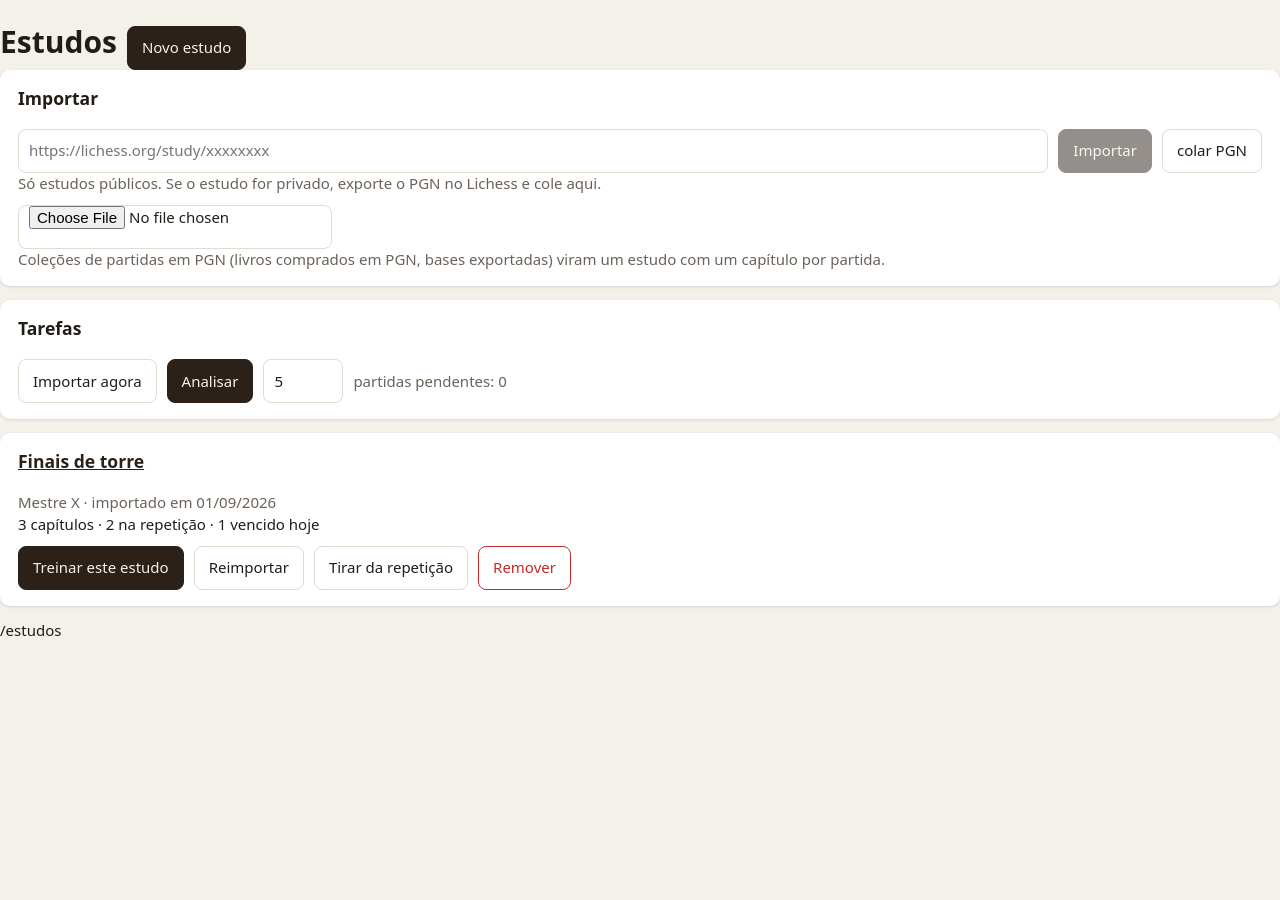
Test: novo estudo cria e abre o detalhe, com o autor do nome configurado
Expected: the link "Finais de torre" is shown, [18, 449, 144, 473]
Click the button "Novo estudo": [187, 48] box [127, 26, 246, 70]
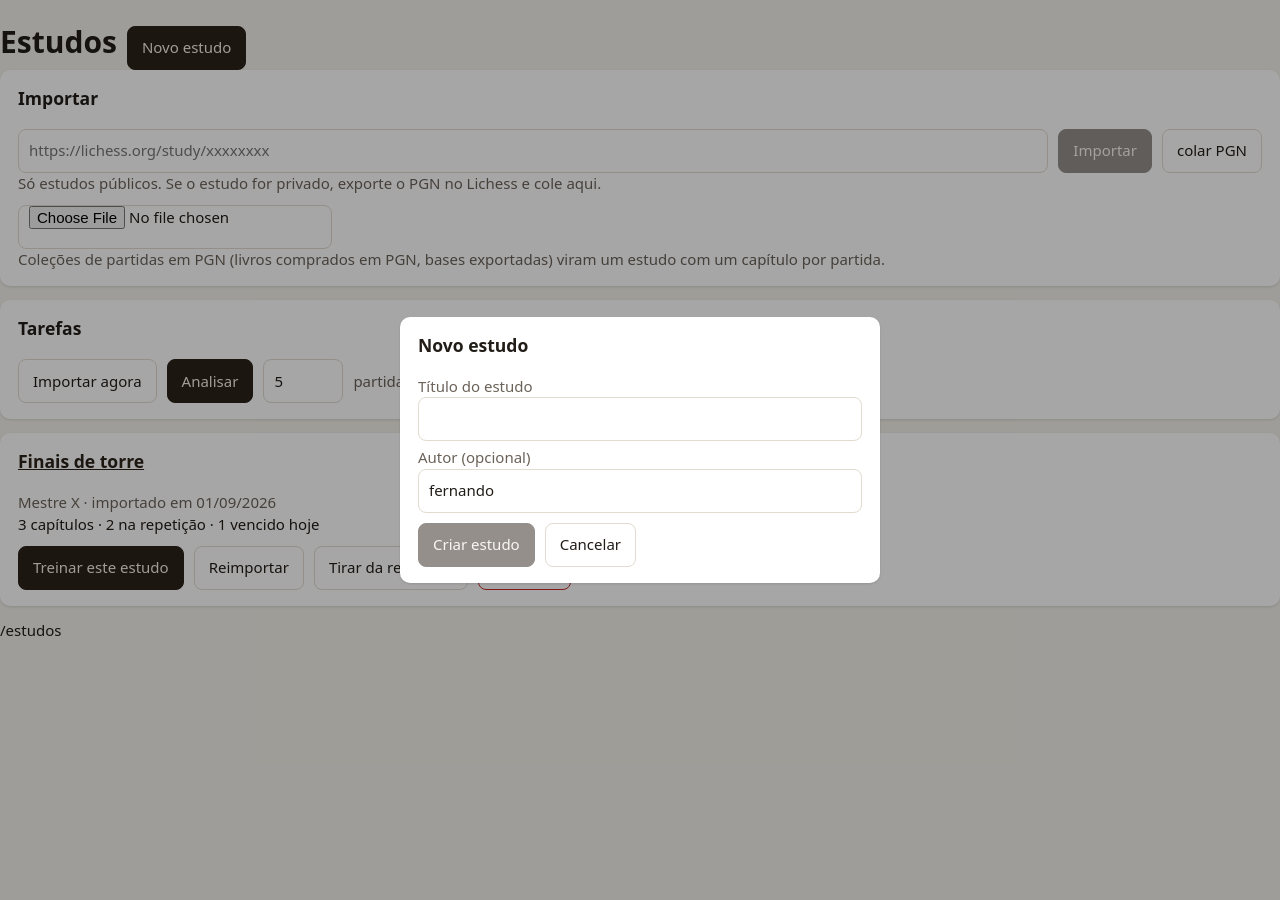
Expected: the field named "Autor" holds "fernando", [418, 469, 862, 513]
In the field named "Título do estudo": [640, 420] box [418, 398, 862, 442], type "Meu estudo"
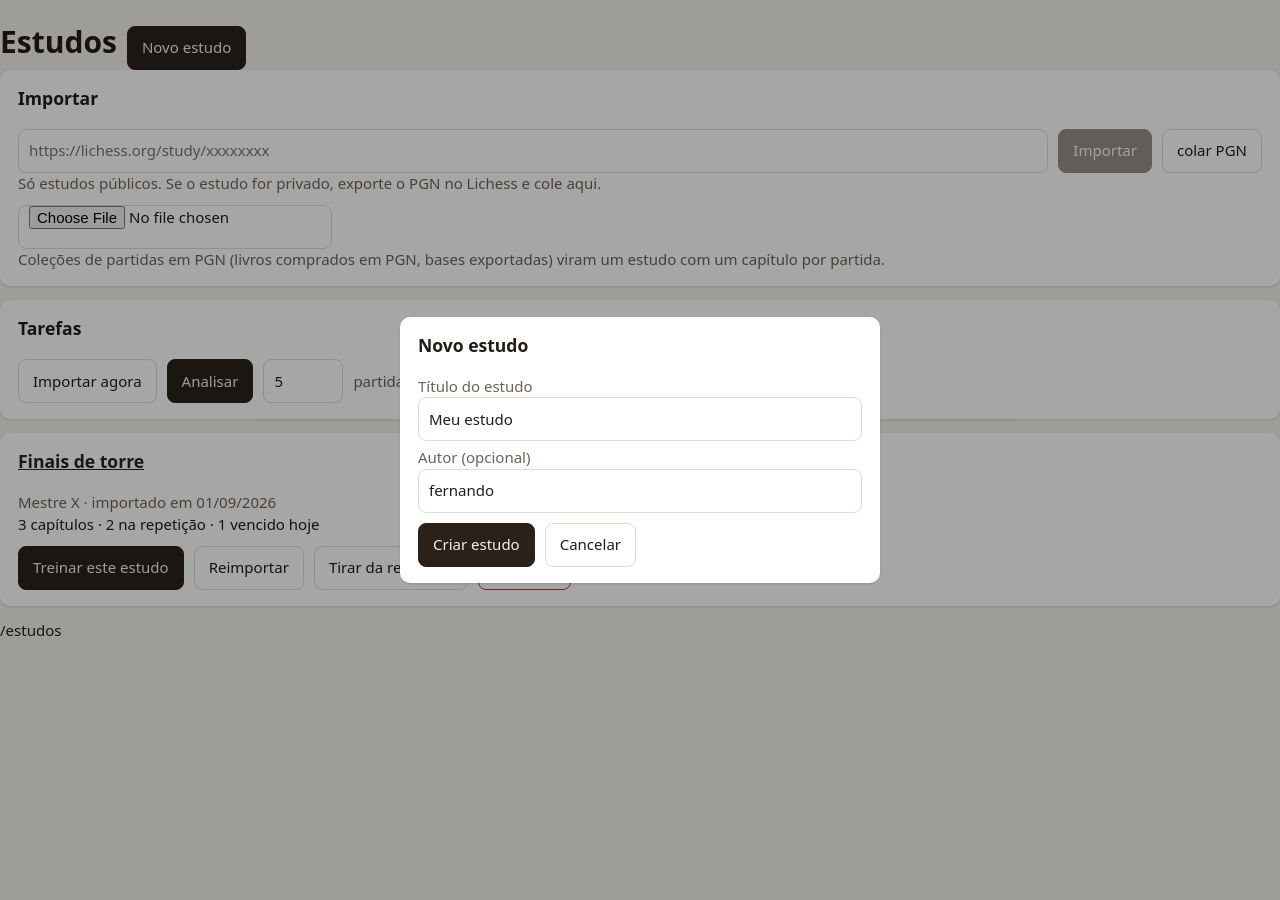
Click the button "Criar estudo": [476, 545] box [418, 523, 535, 567]
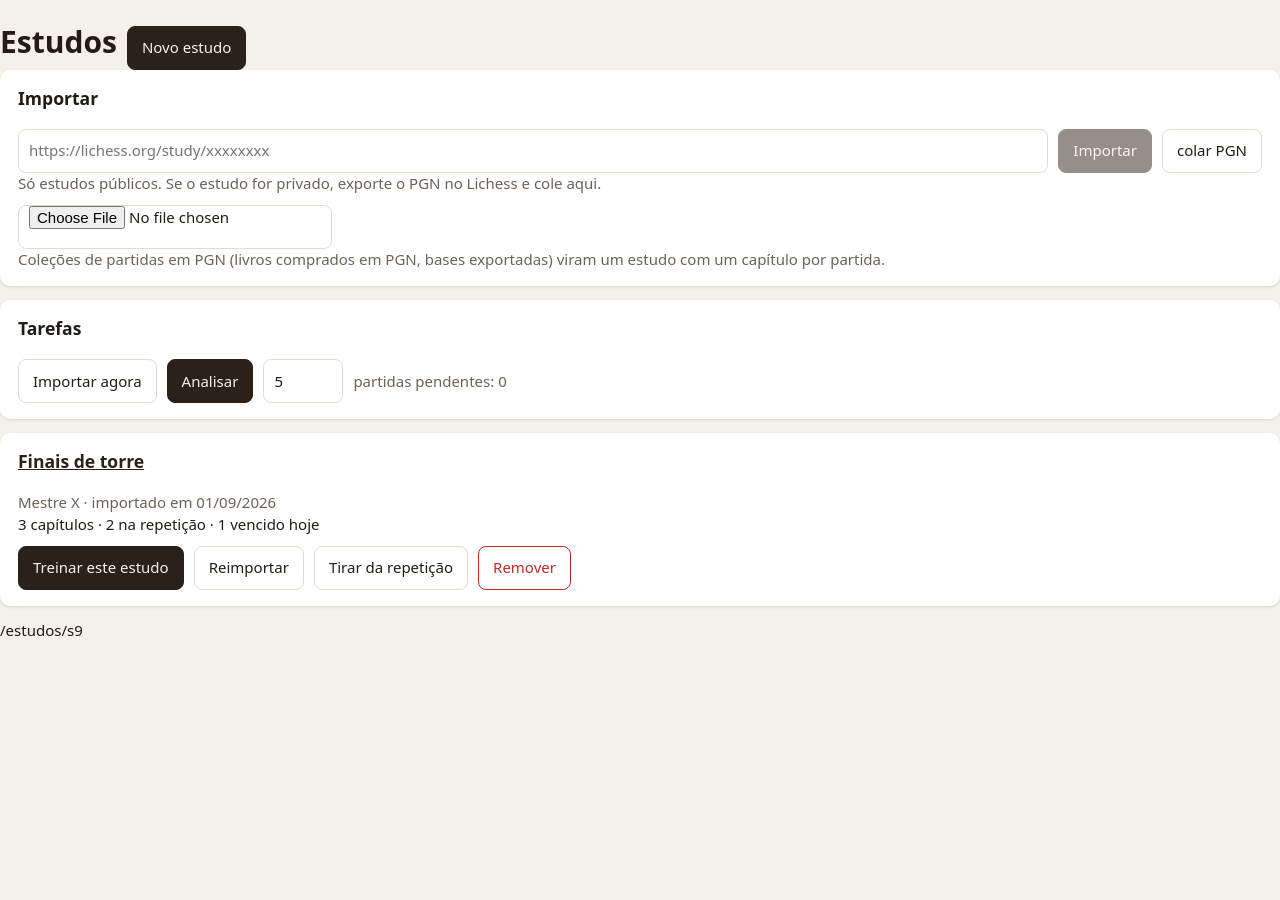
Expected: the text with test id "where" reads "/estudos/s9", [0, 620, 83, 640]
